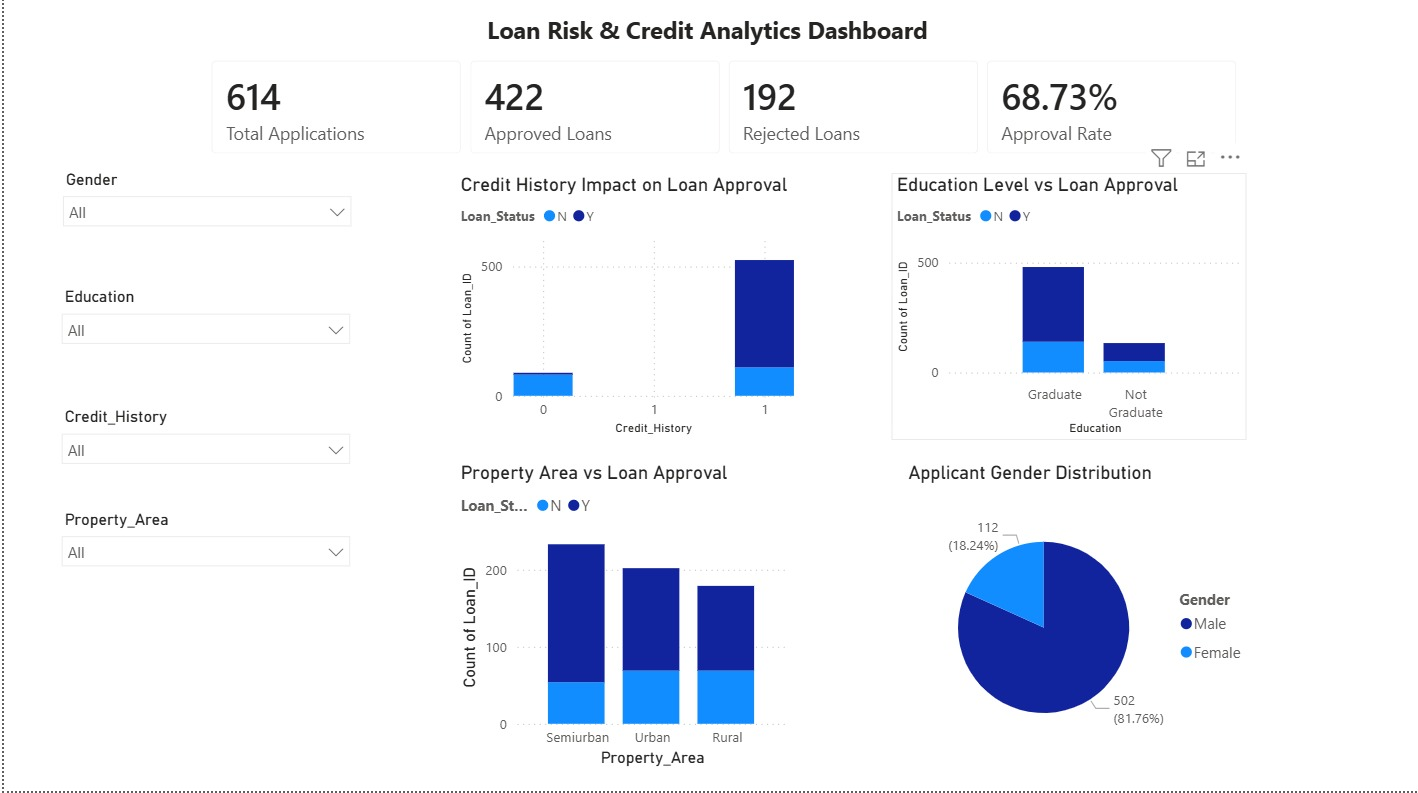

The dashboard page shown, as its layout file describes it:
{"tool":"powerbi","page":{"name":"Page 1","canvas":[1280,720],"ordinal":0},"visuals":[{"type":"cardVisual","fields":{"Data":["cleaned_loan_data.Total Applications","cleaned_loan_data.Approved Loans","cleaned_loan_data.Rejected Loans","cleaned_loan_data.Approval Rate"]},"box":[170,44,961.1,118.6],"z":0},{"type":"columnChart","title":"Credit History Impact on Loan Approval","fields":{"Category":["cleaned_loan_data.Credit_History"],"Y":["CountNonNull(cleaned_loan_data.Loan_ID)"],"Series":["cleaned_loan_data.Loan_Status"]},"box":[407.2,162.6,310.6,240.9],"z":1000},{"type":"columnChart","title":"Education Level vs Loan Approval","fields":{"Category":["cleaned_loan_data.Education"],"Y":["CountNonNull(cleaned_loan_data.Loan_ID)"],"Series":["cleaned_loan_data.Loan_Status"]},"box":[799.7,162.6,320.4,240.9],"z":2000},{"type":"columnChart","title":"Property Area vs Loan Approval","fields":{"Category":["cleaned_loan_data.Property_Area"],"Y":["CountNonNull(cleaned_loan_data.Loan_ID)"],"Series":["cleaned_loan_data.Loan_Status"]},"box":[407.2,423.1,304.5,280],"z":3000},{"type":"pieChart","title":"Applicant Gender Distribution","fields":{"Category":["cleaned_loan_data.Gender"],"Y":["CountNonNull(cleaned_loan_data.Loan_ID)"]},"box":[810.7,423.1,320.4,280],"z":4000},{"type":"slicer","fields":{"Values":["cleaned_loan_data.Gender"]},"box":[42.8,154.1,280,70.9],"z":5000},{"type":"slicer","fields":{"Values":["cleaned_loan_data.Education"]},"box":[41.6,260.5,280,70.9],"z":6000},{"type":"slicer","fields":{"Values":["cleaned_loan_data.Property_Area"]},"box":[41.6,461,280,70.9],"z":7000},{"type":"slicer","fields":{"Values":["cleaned_loan_data.Credit_History"]},"box":[41.6,368.1,280,70.9],"z":8000},{"type":"textbox","box":[1130,163,150,241],"z":10000},{"type":"textbox","box":[430.4,13.5,440.2,40.4],"z":10001}]}

Visuals, with their boxes in screenshot pixels (x1, y1, x2, y2), scaled from the page's 1280x720 canvas onto the 1418x793 screenshot:
cardVisual - cleaned_loan_data.Total Applications x cleaned_loan_data.Approved Loans: <bbox>188, 48, 1253, 179</bbox>
"Credit History Impact on Loan Approval" columnChart: <bbox>451, 179, 795, 444</bbox>
"Education Level vs Loan Approval" columnChart: <bbox>886, 179, 1241, 444</bbox>
"Property Area vs Loan Approval" columnChart: <bbox>451, 466, 788, 774</bbox>
"Applicant Gender Distribution" pieChart: <bbox>898, 466, 1253, 774</bbox>
slicer - cleaned_loan_data.Gender: <bbox>47, 170, 358, 248</bbox>
slicer - cleaned_loan_data.Education: <bbox>46, 287, 356, 365</bbox>
slicer - cleaned_loan_data.Property_Area: <bbox>46, 508, 356, 586</bbox>
slicer - cleaned_loan_data.Credit_History: <bbox>46, 405, 356, 484</bbox>
textbox: <bbox>1252, 180, 1417, 445</bbox>
textbox: <bbox>477, 15, 964, 59</bbox>
